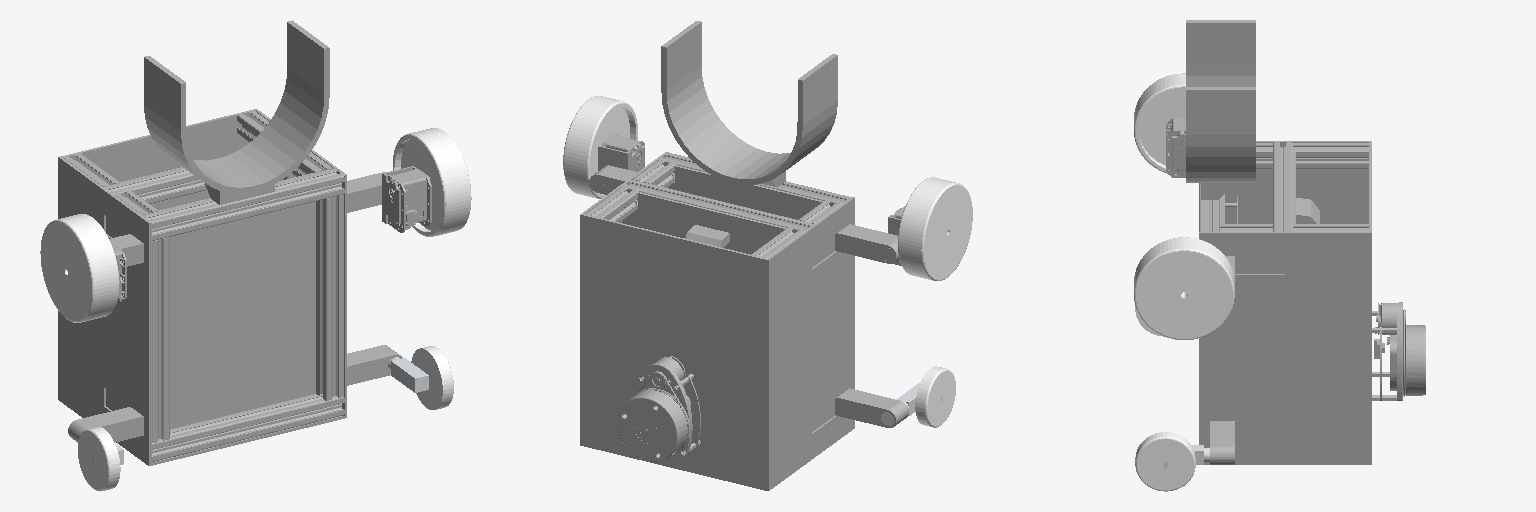
The robot description file, URDF, robot "05149":
<?xml version="1.0" encoding="utf-8"?>
<!-- This URDF was automatically created by SolidWorks to URDF Exporter! Originally created by [author] ([email redacted]) 
     Commit Version: 1.5.1-0-g916b5db  Build Version: 1.5.7152.31018
     For more information, please see http://wiki.ros.org/sw_urdf_exporter -->
<robot
  name="05149">
  <link
    name="Body">
    <inertial>
      <origin
        xyz="0.108885138044438 0.0585567936495662 -0.142308649679038"
        rpy="0 0 0" />
      <mass
        value="5.32485366509136" />
      <inertia
        ixx="0.0219378727233069"
        ixy="-4.0175156182501E-06"
        ixz="-1.47975198134051E-06"
        iyy="0.023203020823872"
        iyz="-7.80337093935826E-06"
        izz="0.0149047739346839" />
    </inertial>
    <visual>
      <origin
        xyz="0 0 0"
        rpy="0 0 0" />
      <geometry>
        <mesh
          filename="package://05149/meshes/Body.STL" />
      </geometry>
      <material
        name="">
        <color
          rgba="0.752941176470588 0.752941176470588 0.752941176470588 1" />
      </material>
    </visual>
    <collision>
      <origin
        xyz="0 0 0"
        rpy="0 0 0" />
      <geometry>
        <mesh
          filename="package://05149/meshes/Body.STL" />
      </geometry>
    </collision>
  </link>
  <link
    name="LFS">
    <inertial>
      <origin
        xyz="0.066688 -0.025617 0.027258"
        rpy="0 0 0" />
      <mass
        value="0.26437" />
      <inertia
        ixx="3.2075E-05"
        ixy="-1.4412E-07"
        ixz="-6.3085E-08"
        iyy="6.227E-05"
        iyz="-2.0189E-07"
        izz="6.2852E-05" />
    </inertial>
    <visual>
      <origin
        xyz="0 0 0"
        rpy="0 0 0" />
      <geometry>
        <mesh
          filename="package://05149/meshes/LFS.STL" />
      </geometry>
      <material
        name="">
        <color
          rgba="0.75294 0.75294 0.75294 1" />
      </material>
    </visual>
    <collision>
      <origin
        xyz="0 0 0"
        rpy="0 0 0" />
      <geometry>
        <mesh
          filename="package://05149/meshes/LFS.STL" />
      </geometry>
    </collision>
  </link>
  <joint
    name="LFS"
    type="prismatic">
    <origin
      xyz="0.31516 0.026427 -0.050812"
      rpy="-1.8784 0 -3.1416" />
    <parent
      link="Body" />
    <child
      link="LFS" />
    <axis
      xyz="0 0.3028 -0.95305" />
    <limit
      lower="0"
      upper="0"
      effort="0"
      velocity="0" />
  </joint>
  <link
    name="LFW">
    <inertial>
      <origin
        xyz="-0.012316 0 3.4694E-18"
        rpy="0 0 0" />
      <mass
        value="0.19359" />
      <inertia
        ixx="0.00025308"
        ixy="-2.207E-23"
        ixz="8.8772E-22"
        iyy="0.00013682"
        iyz="0"
        izz="0.00013682" />
    </inertial>
    <visual>
      <origin
        xyz="0 0 0"
        rpy="0 0 0" />
      <geometry>
        <mesh
          filename="package://05149/meshes/LFW.STL" />
      </geometry>
      <material
        name="">
        <color
          rgba="1 1 1 1" />
      </material>
    </visual>
    <collision>
      <origin
        xyz="0 0 0"
        rpy="0 0 0" />
      <geometry>
        <mesh
          filename="package://05149/meshes/LFW.STL" />
      </geometry>
    </collision>
  </link>
  <joint
    name="LFW"
    type="continuous">
    <origin
      xyz="0.00041099 -0.047479 0.052309"
      rpy="-1.8707 0 3.1416" />
    <parent
      link="LFS" />
    <child
      link="LFW" />
    <axis
      xyz="1 0 0" />
    <limit
      effort="3.1"
      velocity="7" />
  </joint>
  <link
    name="RFS">
    <inertial>
      <origin
        xyz="0.072447 -0.031683 0.02534"
        rpy="0 0 0" />
      <mass
        value="0.26437" />
      <inertia
        ixx="3.2075E-05"
        ixy="1.4412E-07"
        ixz="6.3085E-08"
        iyy="6.227E-05"
        iyz="-2.0189E-07"
        izz="6.2852E-05" />
    </inertial>
    <visual>
      <origin
        xyz="0 0 0"
        rpy="0 0 0" />
      <geometry>
        <mesh
          filename="package://05149/meshes/RFS.STL" />
      </geometry>
      <material
        name="">
        <color
          rgba="0.75294 0.75294 0.75294 1" />
      </material>
    </visual>
    <collision>
      <origin
        xyz="0 0 0"
        rpy="0 0 0" />
      <geometry>
        <mesh
          filename="package://05149/meshes/RFS.STL" />
      </geometry>
    </collision>
  </link>
  <joint
    name="RFS"
    type="prismatic">
    <origin
      xyz="-0.10492 0.026427 -0.012128"
      rpy="1.2632 0 0" />
    <parent
      link="Body" />
    <child
      link="RFS" />
    <axis
      xyz="0 0.3028 -0.95305" />
    <limit
      lower="0"
      upper="0"
      effort="0"
      velocity="0" />
  </joint>
  <link
    name="RFW">
    <inertial>
      <origin
        xyz="-0.012316 -3.4694E-18 6.9389E-18"
        rpy="0 0 0" />
      <mass
        value="0.19359" />
      <inertia
        ixx="0.00025308"
        ixy="1.5215E-21"
        ixz="2.9081E-21"
        iyy="0.00013682"
        iyz="-1.6941E-20"
        izz="0.00013682" />
    </inertial>
    <visual>
      <origin
        xyz="0 0 0"
        rpy="0 0 0" />
      <geometry>
        <mesh
          filename="package://05149/meshes/RFW.STL" />
      </geometry>
      <material
        name="">
        <color
          rgba="1 1 1 1" />
      </material>
    </visual>
    <collision>
      <origin
        xyz="0 0 0"
        rpy="0 0 0" />
      <geometry>
        <mesh
          filename="package://05149/meshes/RFW.STL" />
      </geometry>
    </collision>
  </link>
  <joint
    name="RFW"
    type="continuous">
    <origin
      xyz="0.0061708 -0.028286 0.058405"
      rpy="-0.70714 0 3.1416" />
    <parent
      link="RFS" />
    <child
      link="RFW" />
    <axis
      xyz="1 0 0" />
    <limit
      effort="3.1"
      velocity="7" />
  </joint>
  <link
    name="LBS">
    <inertial>
      <origin
        xyz="0.075402 -0.020601 0.012626"
        rpy="0 0 0" />
      <mass
        value="0.19701" />
      <inertia
        ixx="1.688E-05"
        ixy="-4.8067E-21"
        ixz="2.2036E-20"
        iyy="5.0218E-05"
        iyz="1.0509E-06"
        izz="4.7245E-05" />
    </inertial>
    <visual>
      <origin
        xyz="0 0 0"
        rpy="0 0 0" />
      <geometry>
        <mesh
          filename="package://05149/meshes/LBS.STL" />
      </geometry>
      <material
        name="">
        <color
          rgba="0.75294 0.75294 0.75294 1" />
      </material>
    </visual>
    <collision>
      <origin
        xyz="0 0 0"
        rpy="0 0 0" />
      <geometry>
        <mesh
          filename="package://05149/meshes/LBS.STL" />
      </geometry>
    </collision>
  </link>
  <joint
    name="LBS"
    type="prismatic">
    <origin
      xyz="0.31516 0.01777 -0.23081"
      rpy="-1.8784 0 3.1416" />
    <parent
      link="Body" />
    <child
      link="LBS" />
    <axis
      xyz="0 0.3028 -0.95305" />
    <limit
      lower="0"
      upper="0"
      effort="0"
      velocity="0" />
  </joint>
  <link
    name="LBC">
    <inertial>
      <origin
        xyz="0.000464526735874993 -0.0408313152633741 0"
        rpy="0 0 0" />
      <mass
        value="0.0433962459602619" />
      <inertia
        ixx="2.11800424724879E-05"
        ixy="5.53822046363831E-07"
        ixz="-1.12496563307212E-22"
        iyy="1.76453344713605E-06"
        iyz="-5.86098823024448E-21"
        izz="2.14947085785555E-05" />
    </inertial>
    <visual>
      <origin
        xyz="0 0 0"
        rpy="0 0 0" />
      <geometry>
        <mesh
          filename="package://05149/meshes/LBC.STL" />
      </geometry>
      <material
        name="">
        <color
          rgba="0.898039215686275 0.917647058823529 0.929411764705882 1" />
      </material>
    </visual>
    <collision>
      <origin
        xyz="0 0 0"
        rpy="0 0 0" />
      <geometry>
        <mesh
          filename="package://05149/meshes/LBC.STL" />
      </geometry>
    </collision>
  </link>
  <joint
    name="LBC"
    type="continuous">
    <origin
      xyz="0.041161 -0.016816 0.00071326"
      rpy="-1.8784 -0.0013926 3.1372" />
    <parent
      link="LBS" />
    <child
      link="LBC" />
    <axis
      xyz="0 1 0" />
  </joint>
  <link
    name="LBW">
    <inertial>
      <origin
        xyz="0.00647305835345524 0 0"
        rpy="0 0 0" />
      <mass
        value="0.0368891747697499" />
      <inertia
        ixx="1.67269024516251E-05"
        ixy="-6.0384184716371E-22"
        ixz="6.31965987990513E-21"
        iyy="8.87926239042531E-06"
        iyz="-3.17637355220363E-22"
        izz="8.87926239042531E-06" />
    </inertial>
    <visual>
      <origin
        xyz="0 0 0"
        rpy="0 0 0" />
      <geometry>
        <mesh
          filename="package://05149/meshes/LBW.STL" />
      </geometry>
      <material
        name="">
        <color
          rgba="1 1 1 1" />
      </material>
    </visual>
    <collision>
      <origin
        xyz="0 0 0"
        rpy="0 0 0" />
      <geometry>
        <mesh
          filename="package://05149/meshes/LBW.STL" />
      </geometry>
    </collision>
  </link>
  <joint
    name="LBW"
    type="continuous">
    <origin
      xyz="0.0095003 -0.068304 0"
      rpy="-2.9662 0 0" />
    <parent
      link="LBC" />
    <child
      link="LBW" />
    <axis
      xyz="1 0 0" />
    <limit
      effort="3.1"
      velocity="7" />
  </joint>
  <link
    name="RBS">
    <inertial>
      <origin
        xyz="0.075402 -0.020601 0.012626"
        rpy="0 0 0" />
      <mass
        value="0.19701" />
      <inertia
        ixx="1.688E-05"
        ixy="1.0289E-20"
        ixz="-2.4348E-20"
        iyy="5.0218E-05"
        iyz="1.0509E-06"
        izz="4.7245E-05" />
    </inertial>
    <visual>
      <origin
        xyz="0 0 0"
        rpy="0 0 0" />
      <geometry>
        <mesh
          filename="package://05149/meshes/RBS.STL" />
      </geometry>
      <material
        name="">
        <color
          rgba="0.75294 0.75294 0.75294 1" />
      </material>
    </visual>
    <collision>
      <origin
        xyz="0 0 0"
        rpy="0 0 0" />
      <geometry>
        <mesh
          filename="package://05149/meshes/RBS.STL" />
      </geometry>
    </collision>
  </link>
  <joint
    name="RBS"
    type="prismatic">
    <origin
      xyz="-0.099161 0.01777 -0.19919"
      rpy="1.2632 0 0" />
    <parent
      link="Body" />
    <child
      link="RBS" />
    <axis
      xyz="0 0.3028 -0.95305" />
    <limit
      lower="0"
      upper="0"
      effort="0"
      velocity="0" />
  </joint>
  <link
    name="RBC">
    <inertial>
      <origin
        xyz="0.000464526735875062 -0.0408313152633741 -5.55111512312578E-17"
        rpy="0 0 0" />
      <mass
        value="0.0433962459602619" />
      <inertia
        ixx="2.1180042472488E-05"
        ixy="5.53822046363839E-07"
        ixz="-2.76211423985068E-22"
        iyy="1.76453344713605E-06"
        iyz="-3.31823183840333E-21"
        izz="2.14947085785555E-05" />
    </inertial>
    <visual>
      <origin
        xyz="0 0 0"
        rpy="0 0 0" />
      <geometry>
        <mesh
          filename="package://05149/meshes/RBC.STL" />
      </geometry>
      <material
        name="">
        <color
          rgba="0.898039215686275 0.917647058823529 0.929411764705882 1" />
      </material>
    </visual>
    <collision>
      <origin
        xyz="0 0 0"
        rpy="0 0 0" />
      <geometry>
        <mesh
          filename="package://05149/meshes/RBC.STL" />
      </geometry>
    </collision>
  </link>
  <joint
    name="RBC"
    type="continuous">
    <origin
      xyz="0.041161 -0.016816 0.00071326"
      rpy="-1.8784 0 3.1416" />
    <parent
      link="RBS" />
    <child
      link="RBC" />
    <axis
      xyz="0 1 0" />
  </joint>
  <link
    name="RBW">
    <inertial>
      <origin
        xyz="0.00647333333471937 -5.55111512312578E-17 -5.55111512312578E-17"
        rpy="0 0 0" />
      <mass
        value="0.0368891747697499" />
      <inertia
        ixx="1.67269024516251E-05"
        ixy="-2.32726892683381E-21"
        ixz="-4.86067499904064E-21"
        iyy="8.8792623904253E-06"
        iyz="-8.470329472543E-22"
        izz="8.8792623904253E-06" />
    </inertial>
    <visual>
      <origin
        xyz="0 0 0"
        rpy="0 0 0" />
      <geometry>
        <mesh
          filename="package://05149/meshes/RBW.STL" />
      </geometry>
      <material
        name="">
        <color
          rgba="1 1 1 1" />
      </material>
    </visual>
    <collision>
      <origin
        xyz="0 0 0"
        rpy="0 0 0" />
      <geometry>
        <mesh
          filename="package://05149/meshes/RBW.STL" />
      </geometry>
    </collision>
  </link>
  <joint
    name="RBW"
    type="continuous">
    <origin
      xyz="0.0095 -0.068304 0"
      rpy="0.99137 0 0" />
    <parent
      link="RBC" />
    <child
      link="RBW" />
    <axis
      xyz="1 0 0" />
    <limit
      effort="3.1"
      velocity="7" />
  </joint>
  <link
    name="front_cam">
    <inertial>
      <origin
        xyz="0.049836 0.061784 0.068723"
        rpy="0 0 0" />
      <mass
        value="0.043612" />
      <inertia
        ixx="4.2948E-06"
        ixy="-8.8579E-10"
        ixz="-1.0181E-09"
        iyy="2.2106E-05"
        iyz="2.1758E-08"
        izz="2.3571E-05" />
    </inertial>
    <visual>
      <origin
        xyz="0 0 0"
        rpy="0 0 0" />
      <geometry>
        <mesh
          filename="package://05149/meshes/front_cam.STL" />
      </geometry>
      <material
        name="">
        <color
          rgba="0.79216 0.81961 0.93333 1" />
      </material>
    </visual>
    <collision>
      <origin
        xyz="0 0 0"
        rpy="0 0 0" />
      <geometry>
        <mesh
          filename="package://05149/meshes/front_cam.STL" />
      </geometry>
    </collision>
  </link>
  <joint
    name="front_cam"
    type="fixed">
    <origin
      xyz="0.058161 0.069504 -0.080278"
      rpy="0 0 0" />
    <parent
      link="Body" />
    <child
      link="front_cam" />
    <axis
      xyz="0 0 0" />
  </joint>
  <link
    name="ball_cam">
    <inertial>
      <origin
        xyz="0.049836 0.061784 -0.0037462"
        rpy="0 0 0" />
      <mass
        value="0.043612" />
      <inertia
        ixx="4.2948E-06"
        ixy="-8.8526E-10"
        ixz="-1.0184E-09"
        iyy="2.2106E-05"
        iyz="2.1758E-08"
        izz="2.3571E-05" />
    </inertial>
    <visual>
      <origin
        xyz="0 0 0"
        rpy="0 0 0" />
      <geometry>
        <mesh
          filename="package://05149/meshes/ball_cam.STL" />
      </geometry>
      <material
        name="">
        <color
          rgba="0.79216 0.81961 0.93333 1" />
      </material>
    </visual>
    <collision>
      <origin
        xyz="0 0 0"
        rpy="0 0 0" />
      <geometry>
        <mesh
          filename="package://05149/meshes/ball_cam.STL" />
      </geometry>
    </collision>
  </link>
  <joint
    name="ball_cam"
    type="fixed">
    <origin
      xyz="0.058165 0.044286 -0.048961"
      rpy="0.63132 0 0" />
    <parent
      link="Body" />
    <child
      link="ball_cam" />
    <axis
      xyz="0 0 0" />
  </joint>
  <link
    name="Lidar">
    <inertial>
      <origin
        xyz="0.10889 0.058557 -0.14231"
        rpy="0 0 0" />
      <mass
        value="5.3249" />
      <inertia
        ixx="0.021938"
        ixy="-4.0175E-06"
        ixz="-1.4798E-06"
        iyy="0.023203"
        iyz="-7.8034E-06"
        izz="0.014905" />
    </inertial>
    <visual>
      <origin
        xyz="0 0 0"
        rpy="0 0 0" />
      <geometry>
        <mesh
          filename="package://05149/meshes/Lidar.STL" />
      </geometry>
      <material
        name="">
        <color
          rgba="0.75294 0.75294 0.75294 1" />
      </material>
    </visual>
    <collision>
      <origin
        xyz="0 0 0"
        rpy="0 0 0" />
      <geometry>
        <mesh
          filename="package://05149/meshes/Lidar.STL" />
      </geometry>
    </collision>
  </link>
  <joint
    name="Lidar"
    type="fixed">
    <origin
      xyz="0.24092 -0.57169 -0.098561"
      rpy="0 -1.5708 0" />
    <parent
      link="Body" />
    <child
      link="Lidar" />
    <axis
      xyz="0 0 0" />
  </joint>
</robot>

--- Render facts (derived) ---
3 views of the same robot in one strip: view 1: azimuth 30°, elevation 25°; view 2: azimuth 150°, elevation 25°; view 3: azimuth 270°, elevation 25° (orthographic).
Model 05149 with 14 links and 13 joints (6 continuous, 4 prismatic, 3 fixed), rooted at Body, posed every joint at zero.
Visible links, largest first — view 1: Body, RFW, LFW, LFS, RBW, LBW, RBS, LBS, RFS, LBC; view 2: Body, Lidar, RFW, LFW, LFS, RFS, RBW, RBS; view 3: Body, LFW, Lidar, RFW, LBW, RFS, LBS.
Link boxes in pixels (x1,y1,x2,y2): Body: (58, 20, 346, 465); RFW: (40, 214, 118, 322); LFW: (393, 128, 471, 236); LFS: (347, 166, 431, 232); RBW: (78, 427, 120, 491); LBW: (411, 346, 453, 409); RBS: (68, 407, 143, 442); LBS: (347, 345, 402, 385); RFS: (109, 234, 143, 301); LBC: (388, 357, 428, 392); Body: (580, 21, 854, 490); Lidar: (618, 356, 700, 461); RFW: (898, 177, 972, 280); LFW: (563, 96, 637, 198); LFS: (589, 135, 644, 194); RFS: (835, 206, 904, 265); RBW: (915, 366, 955, 427); RBS: (835, 388, 908, 427); Body: (1186, 20, 1371, 464); LFW: (1134, 237, 1234, 339); Lidar: (1372, 302, 1425, 400); RFW: (1134, 73, 1185, 174); LBW: (1135, 432, 1195, 491); RFS: (1166, 118, 1185, 177); LBS: (1210, 421, 1234, 464).
Bounding box of the posed robot: 0.4135 × 0.2893 × 0.3973 m (x, y, z).
Meshes: 14 distinct files referenced, 12 mesh visuals loaded (12 binary STL); not drawn: 2 (reference not matched to a file when rendering).